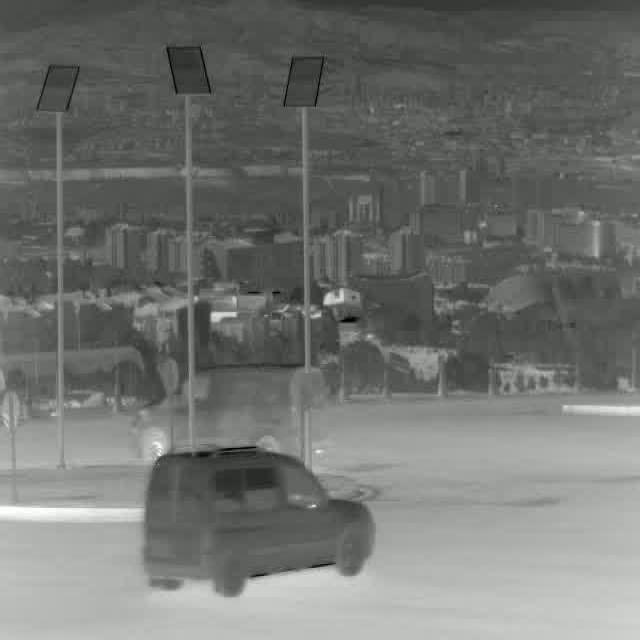Car: (148, 447, 375, 597), (130, 363, 322, 465)
